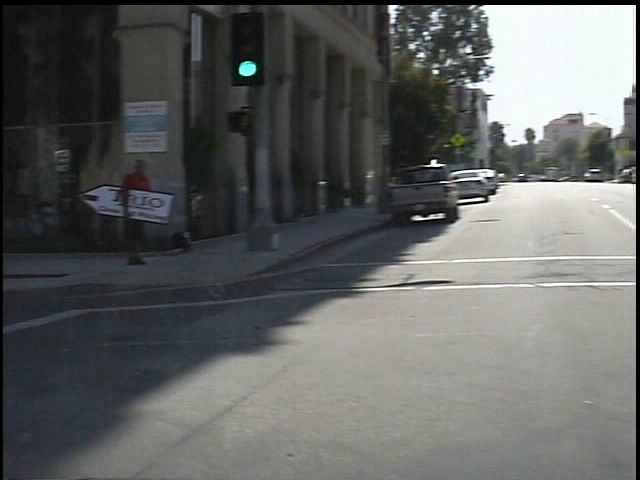person: (109, 156, 152, 275)
